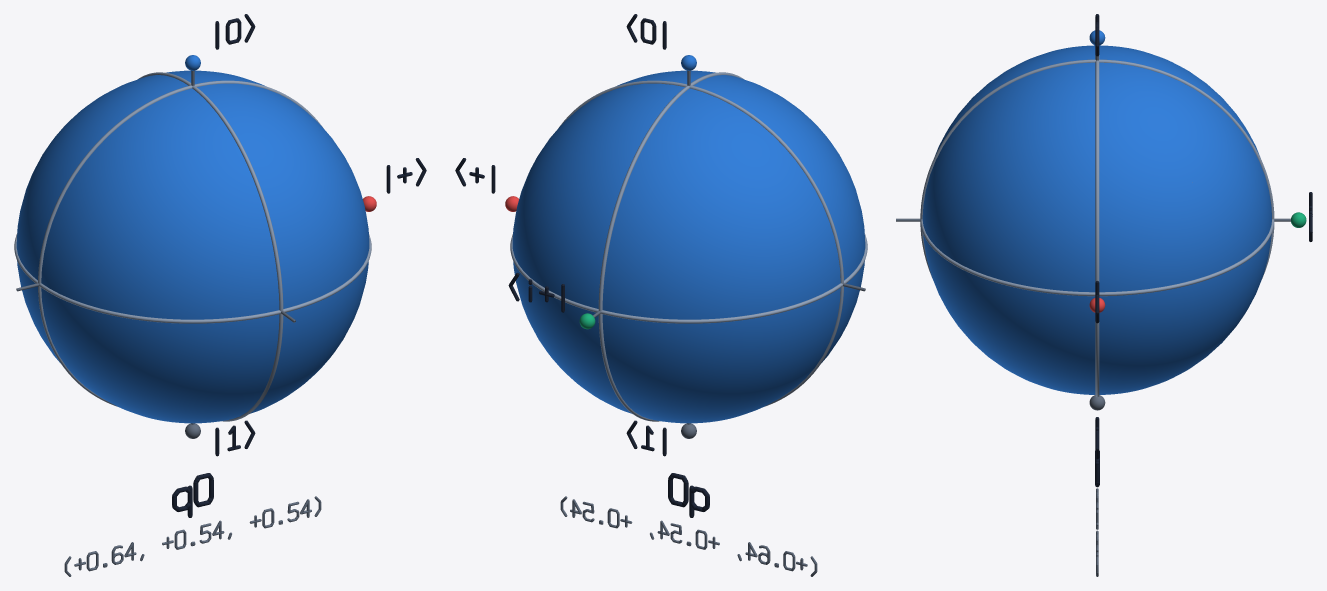
File: bloch.obj
The picture shows the model from 3 angles, left to right: view 1: azimuth 30°, elevation 25°; view 2: azimuth 150°, elevation 25°; view 3: azimuth 270°, elevation 25°; orthographic projection.
Visible parts, largest first — view 1: bloch_q0_sphere, bloch_q0_meridian_xz, bloch_q0_meridian_yz, bloch_q0_equator, bloch_q0_label_vector, bloch_q0_label_name, bloch_q0_label_ket0; view 2: bloch_q0_sphere, bloch_q0_meridian_xz, bloch_q0_meridian_yz, bloch_q0_equator, bloch_q0_label_vector, bloch_q0_label_name, bloch_q0_label_ket0; view 3: bloch_q0_sphere, bloch_q0_meridian_yz, bloch_q0_equator, bloch_q0_meridian_xz.
Boxes of the visible parts, box(x1,y1,x2,y2) form: bloch_q0_sphere: box(16, 70, 369, 423); bloch_q0_meridian_xz: box(38, 80, 322, 406); bloch_q0_meridian_yz: box(137, 72, 283, 421); bloch_q0_equator: box(14, 233, 371, 323); bloch_q0_label_vector: box(64, 496, 321, 576); bloch_q0_label_name: box(172, 473, 213, 517); bloch_q0_label_ket0: box(215, 14, 255, 49); bloch_q0_sphere: box(512, 70, 865, 423); bloch_q0_meridian_xz: box(559, 80, 843, 406); bloch_q0_meridian_yz: box(598, 72, 744, 421); bloch_q0_equator: box(510, 233, 867, 323); bloch_q0_label_vector: box(560, 496, 817, 576); bloch_q0_label_name: box(668, 473, 709, 517); bloch_q0_label_ket0: box(626, 14, 666, 49); bloch_q0_sphere: box(922, 45, 1271, 394); bloch_q0_meridian_yz: box(920, 59, 1274, 278); bloch_q0_equator: box(920, 219, 1274, 296); bloch_q0_meridian_xz: box(1095, 55, 1099, 397).
Size of the model in its own units: 2.68 by 3.26 by 2.38.
